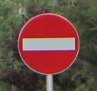no_entry: (18, 13, 79, 74)
